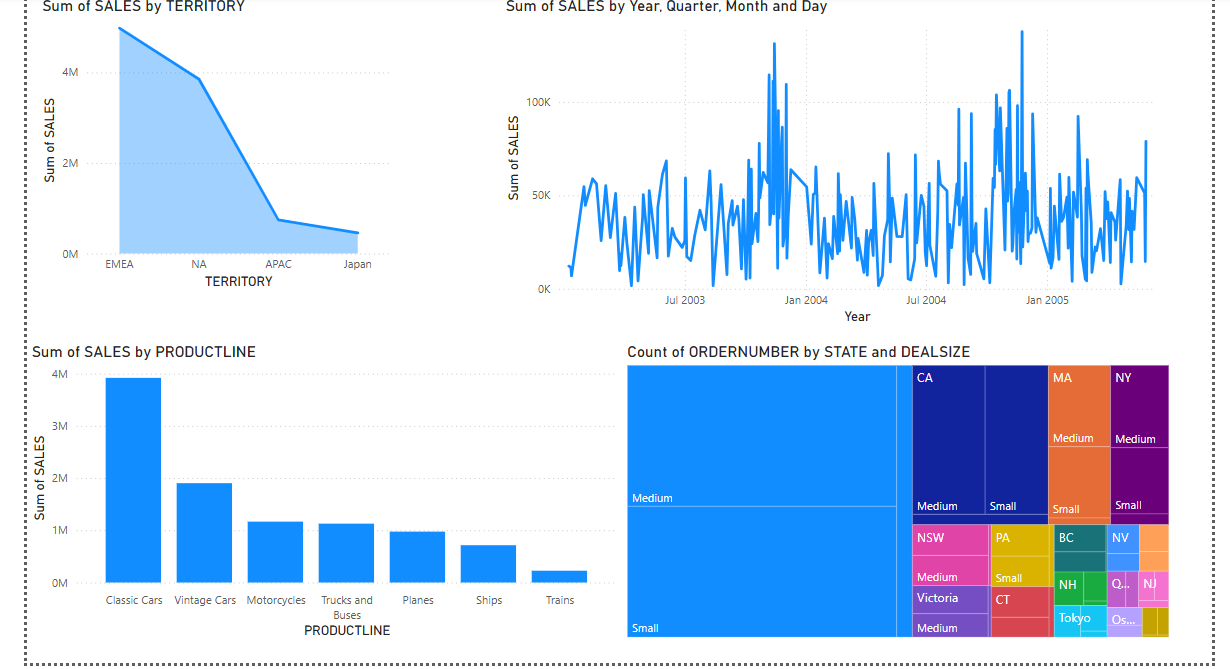

The dashboard page shown, as its layout file describes it:
{"tool":"powerbi","page":{"name":"Page 1","canvas":[1280,720],"ordinal":0},"visuals":[{"type":"areaChart","fields":{"Category":["sales_data_sample.TERRITORY"],"Y":["Sum(sales_data_sample.SALES)"]},"box":[11.3,0,385.5,321.3],"z":0},{"type":"columnChart","fields":{"Category":["sales_data_sample.PRODUCTLINE"],"Y":["Sum(sales_data_sample.SALES)"]},"box":[0,374.2,642.5,323.2],"z":1},{"type":"lineChart","fields":{"Y":["Sum(sales_data_sample.SALES)"],"Category":["sales_data_sample.ORDERDATE.Variation.Date Hierarchy.Year","sales_data_sample.ORDERDATE.Variation.Date Hierarchy.Quarter","sales_data_sample.ORDERDATE.Variation.Date Hierarchy.Month","sales_data_sample.ORDERDATE.Variation.Date Hierarchy.Day"]},"box":[512.1,0,725.7,359.1],"z":2},{"type":"treemap","fields":{"Values":["CountNonNull(sales_data_sample.ORDERNUMBER)"],"Group":["sales_data_sample.STATE"],"Details":["sales_data_sample.DEALSIZE"]},"box":[643,374,595,323],"z":3}]}

Visuals, with their boxes in screenshot pixels (x1, y1, x2, y2):
areaChart - sales_data_sample.TERRITORY x Sum(sales_data_sample.SALES): <box>42,19,396,314</box>
columnChart - sales_data_sample.PRODUCTLINE x Sum(sales_data_sample.SALES): <box>32,362,621,659</box>
lineChart - Sum(sales_data_sample.SALES) x sales_data_sample.ORDERDATE.Variation.Date Hierarchy.Year: <box>502,19,1167,348</box>
treemap - CountNonNull(sales_data_sample.ORDERNUMBER) x sales_data_sample.STATE: <box>622,362,1167,658</box>
